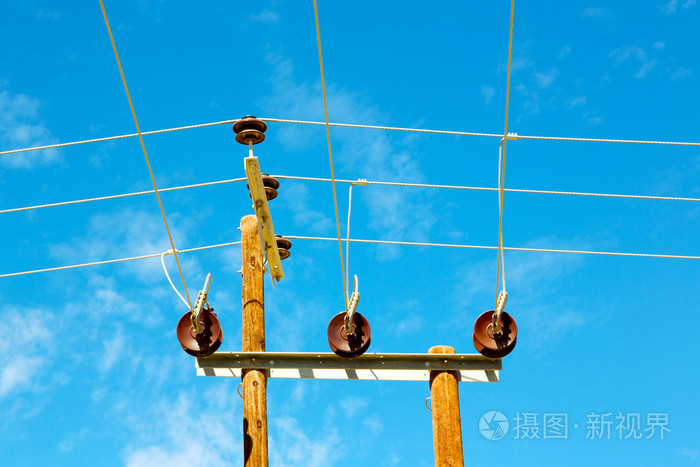insulator: (177, 305, 227, 359), (470, 313, 520, 357), (327, 313, 376, 357), (229, 115, 272, 143), (246, 174, 280, 196), (274, 237, 292, 256)
